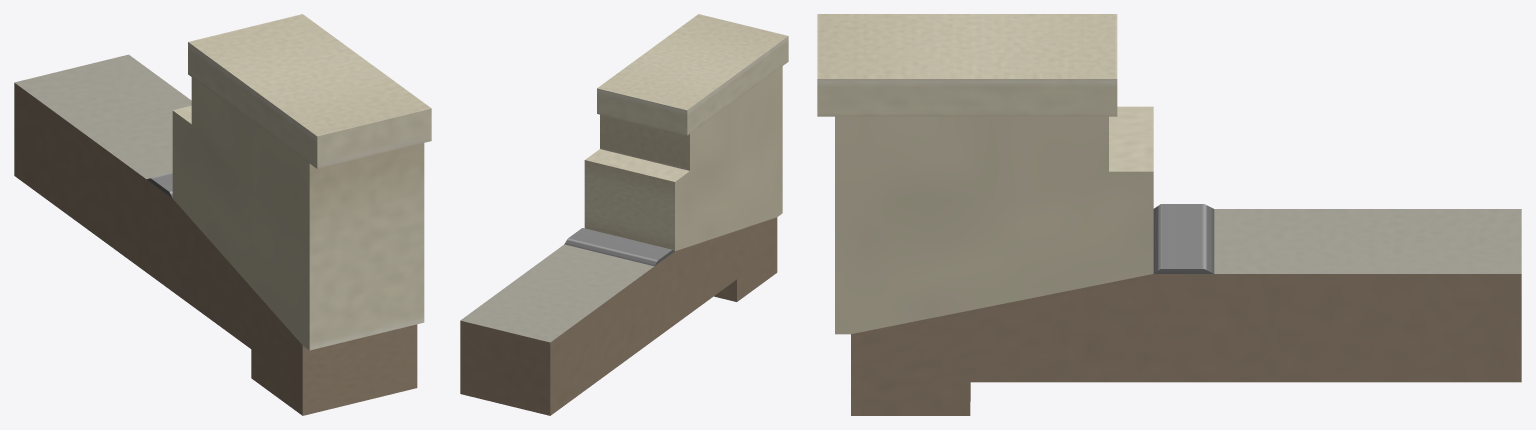
Rendered from set_roof_outside_a04.fbx.
3 renders of one model, left to right at view 1: azimuth 30°, elevation 25°; view 2: azimuth 150°, elevation 25°; view 3: azimuth 270°, elevation 25°, orthographic. The views are drawn at different scales.
Visible parts, largest first — view 1: set_roof_outside_a04; view 2: set_roof_outside_a04; view 3: set_roof_outside_a04.
Part boxes in pixels (x1,y1,x2,y2): set_roof_outside_a04: (14, 14, 431, 415); set_roof_outside_a04: (460, 14, 788, 415); set_roof_outside_a04: (817, 14, 1521, 415).
Bounding box in the file's own units: 50 × 121 × 229.
